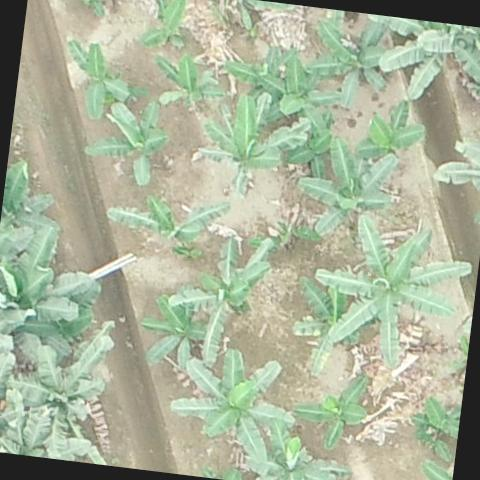Banana-plant: (309, 217, 472, 373), (169, 228, 274, 374), (2, 328, 124, 451), (164, 344, 300, 454), (0, 204, 106, 342), (96, 180, 229, 268), (296, 139, 403, 244), (188, 92, 282, 202), (77, 95, 172, 191), (304, 16, 398, 110), (228, 53, 338, 128), (384, 16, 480, 92), (290, 280, 360, 376), (296, 370, 373, 454), (245, 421, 352, 480), (66, 38, 133, 122), (141, 292, 208, 370), (360, 99, 432, 166), (153, 55, 224, 118), (143, 0, 192, 51)
